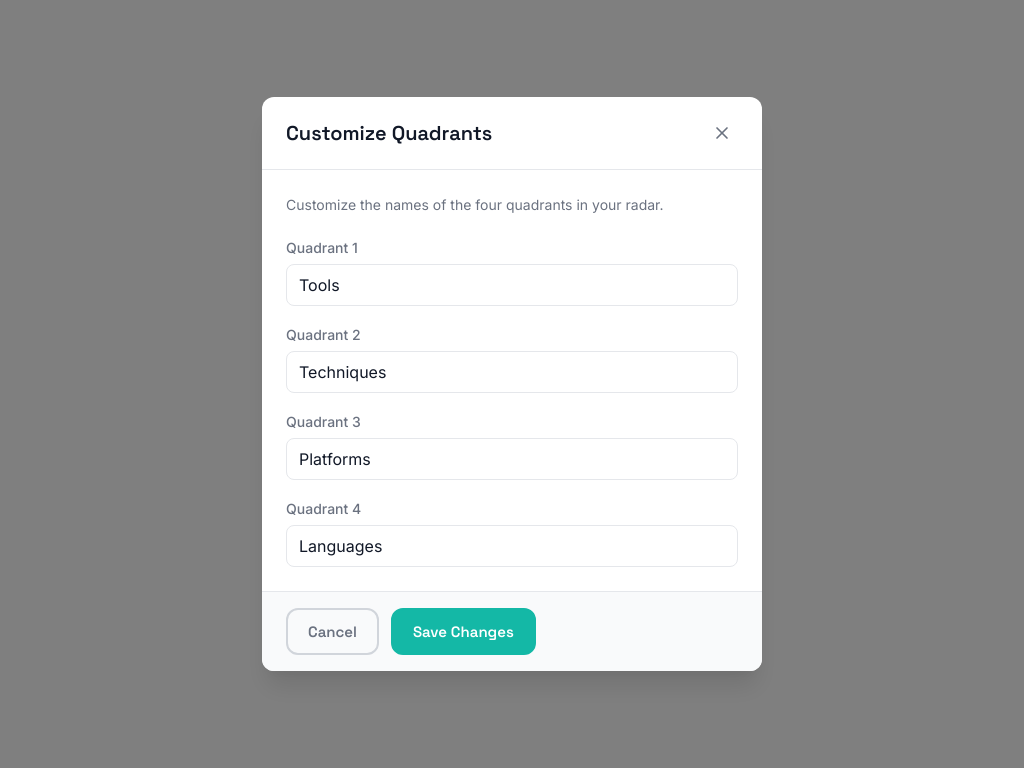
Test: CustomizeQuadrantsModal › Validation › should show multiple errors for multiple empty fields
This screenshot has width=1024, height=768.
Clear the field labelled "Quadrant 1" at {"x": 512, "y": 285}, box [286,264,738,306]
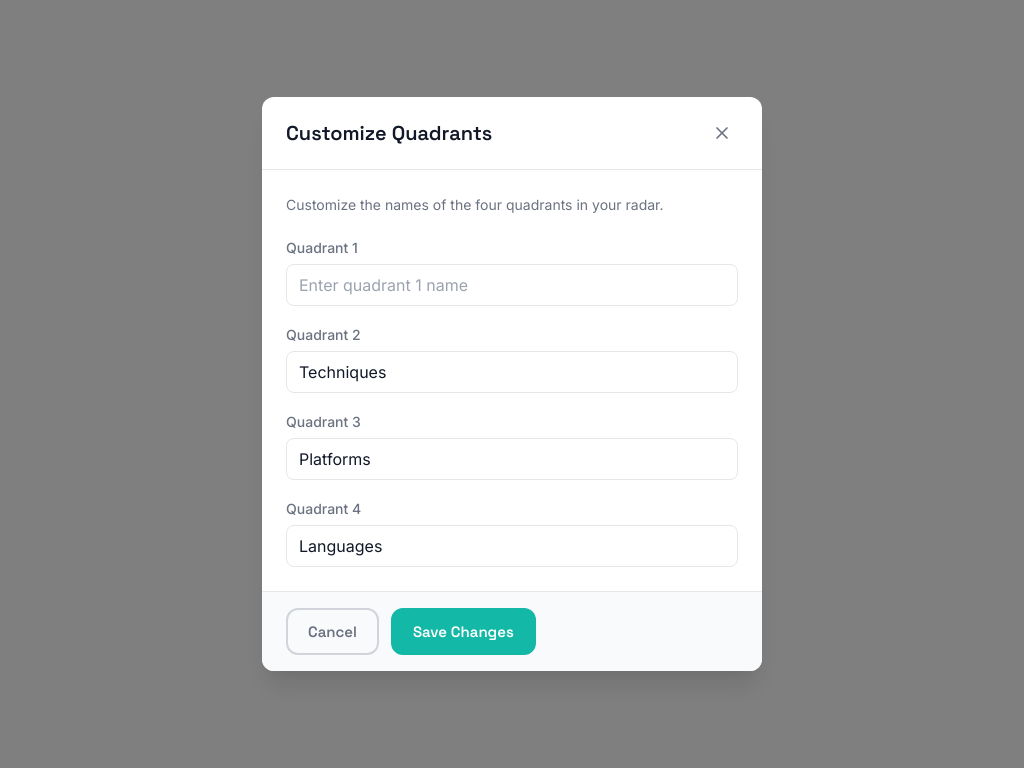
Clear the field labelled "Quadrant 3" at {"x": 512, "y": 459}, box [286,438,738,480]
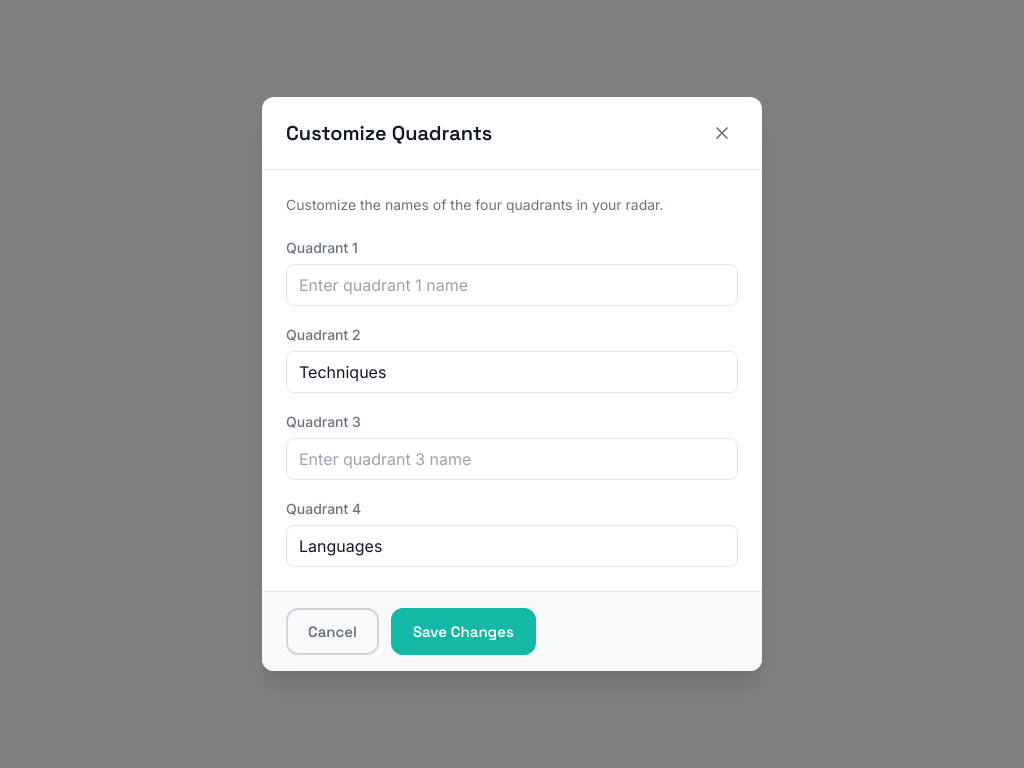
Click the button "Save Changes" at {"x": 463, "y": 632}, box [391,608,536,655]
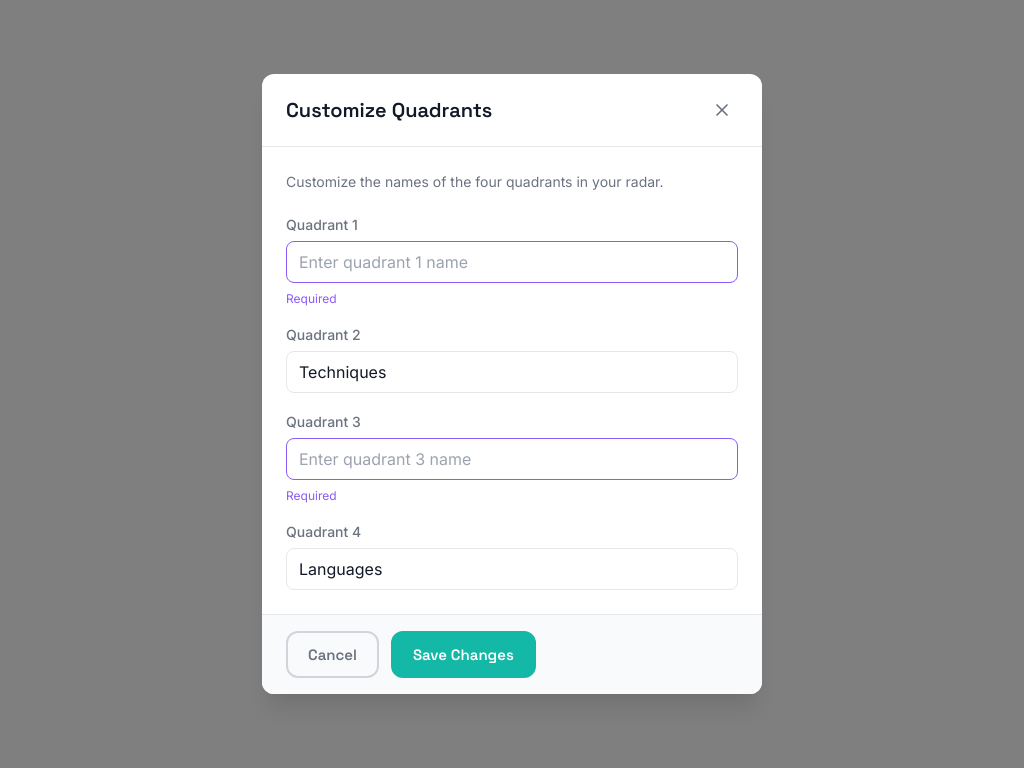
Now the text "Required" is shown 2 times, box [286,291,337,306]; [286,488,337,503]
